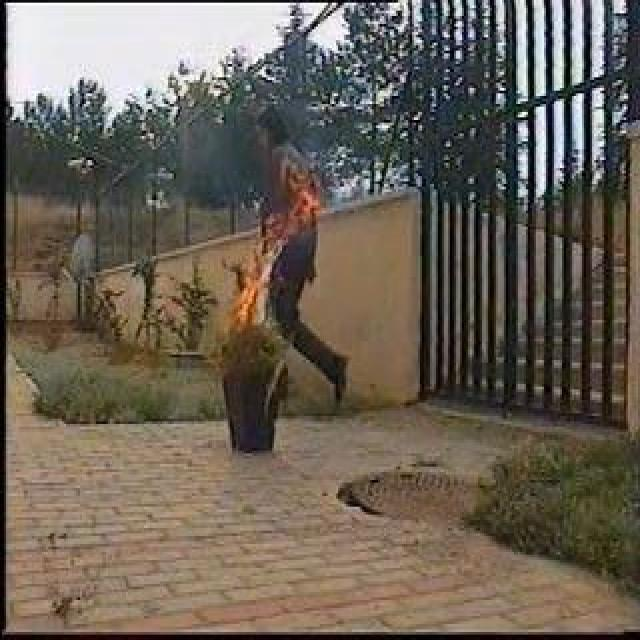fire: (230, 202, 310, 330)
